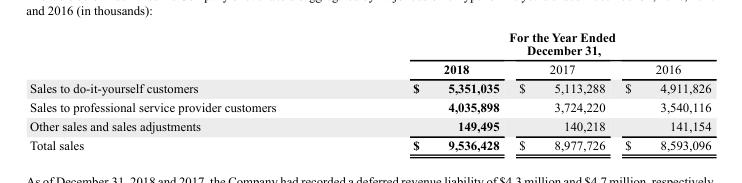table: (29, 29, 710, 152)
table column: (29, 29, 343, 152), (343, 29, 508, 152), (508, 29, 614, 152), (614, 29, 710, 152)
table column header: (29, 29, 710, 78)
table row: (29, 29, 710, 58), (29, 58, 710, 78), (29, 78, 710, 97), (29, 97, 710, 116), (29, 116, 710, 135), (29, 135, 710, 152)
table spanning cell: (343, 29, 710, 58)
